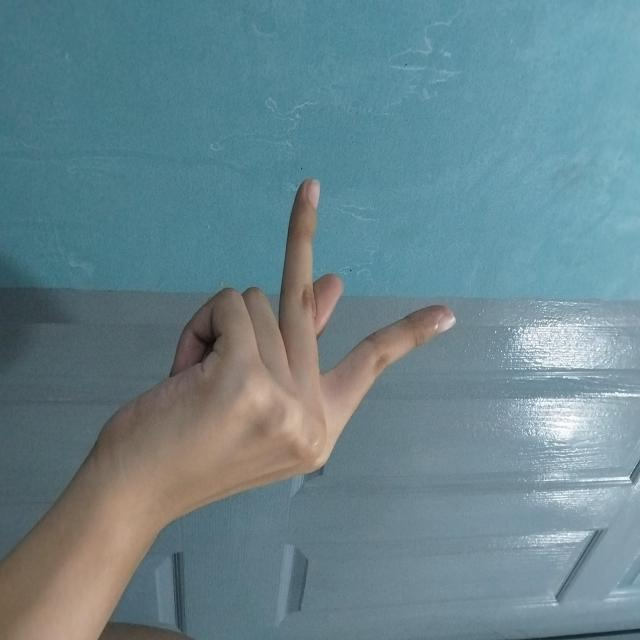K: (180, 187, 500, 549)
